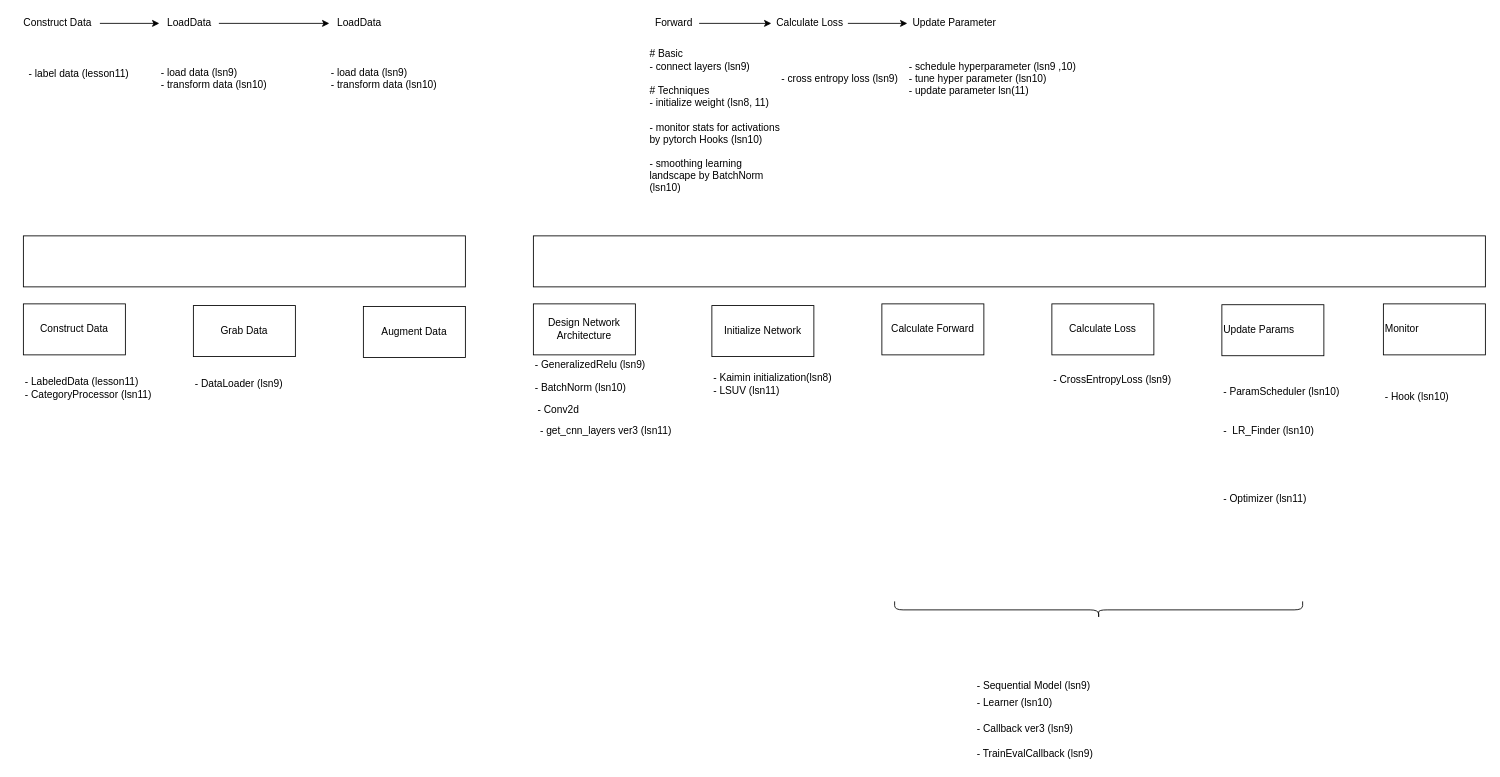
This 1500x777 diagram has some shape labels left out. Each missing label, with the box of its shape:
Code Refactoring: (894, 601, 1303, 618)
Data: (23, 235, 465, 287)
Network: (533, 235, 1485, 287)
